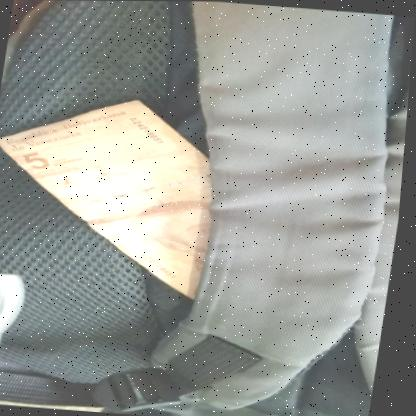vef_front: (0, 88, 230, 298)
